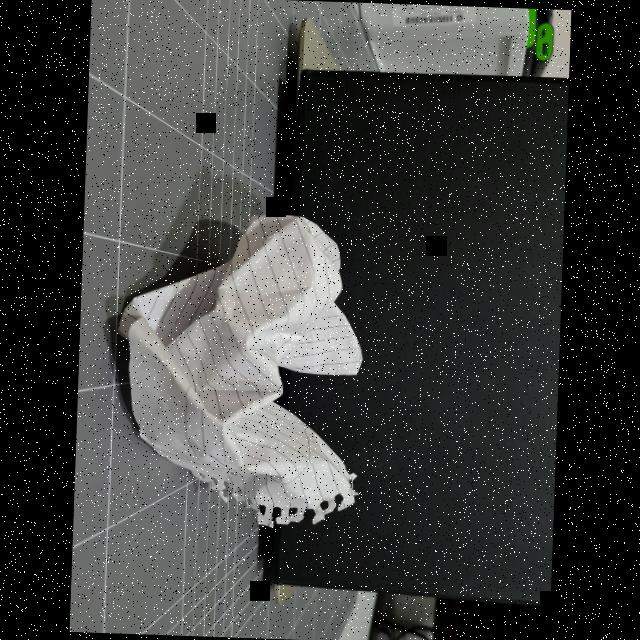scrap_paper: (129, 207, 360, 528)
